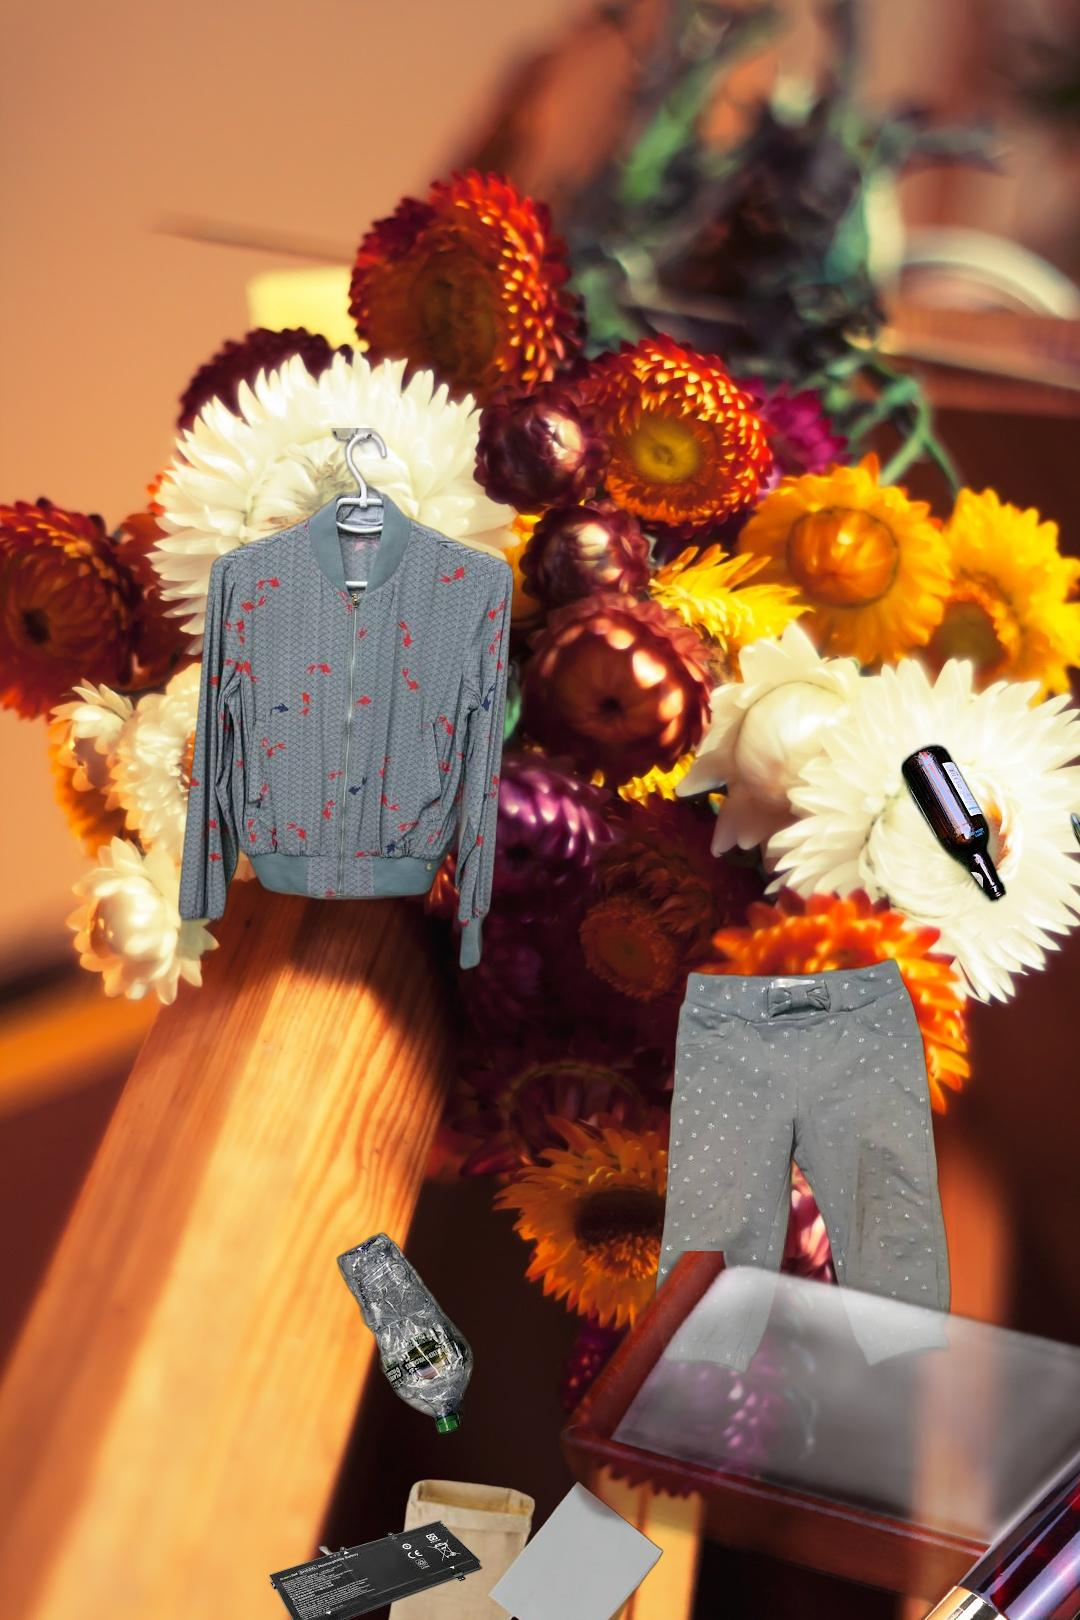battery: (266, 1518, 485, 1620)
clothes: (174, 428, 516, 976), (651, 952, 953, 1381)
glass: (897, 739, 1011, 909), (1066, 653, 1080, 859)
paper-bag: (378, 1477, 667, 1620)
penholder: (393, 1251, 1080, 1620)
plastic-bottles: (331, 1229, 479, 1437)
